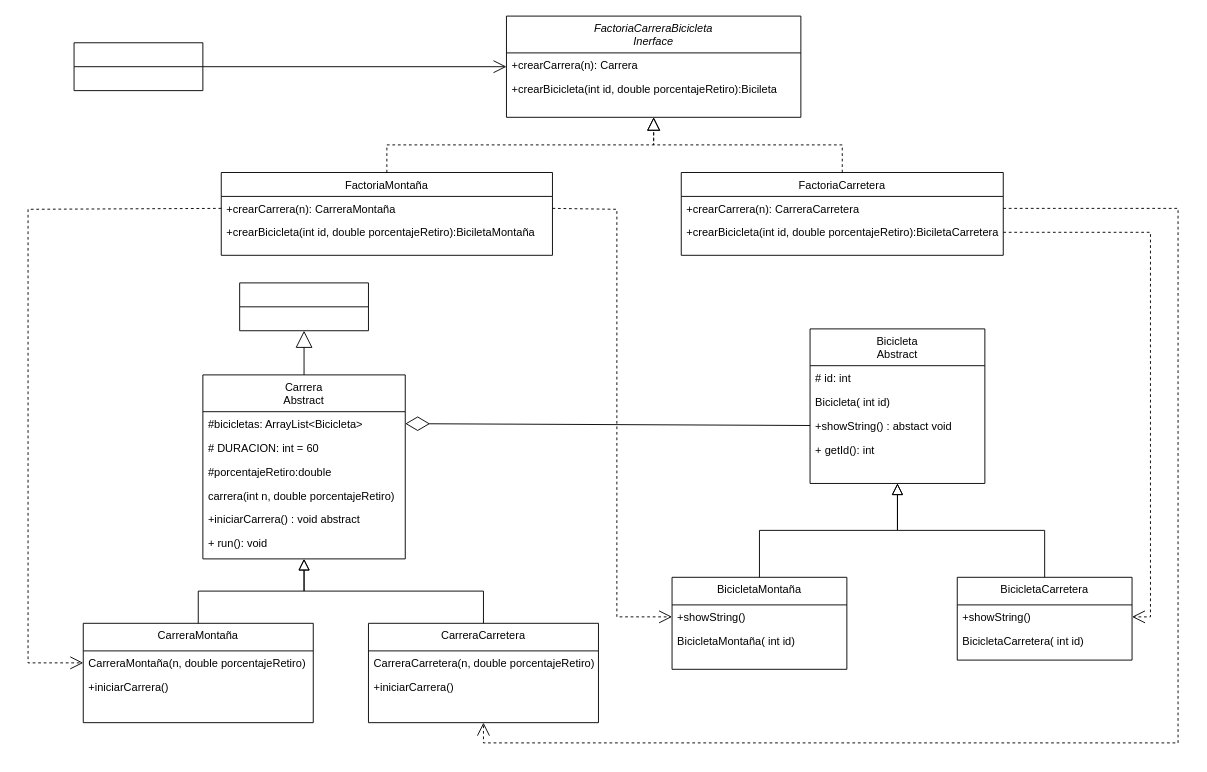
This 1207x772 diagram has some shape labels left out. Each missing label, with the centre of its shape:
"Cliente" belongs at [138,66].
"Thread" belongs at [303,306].
